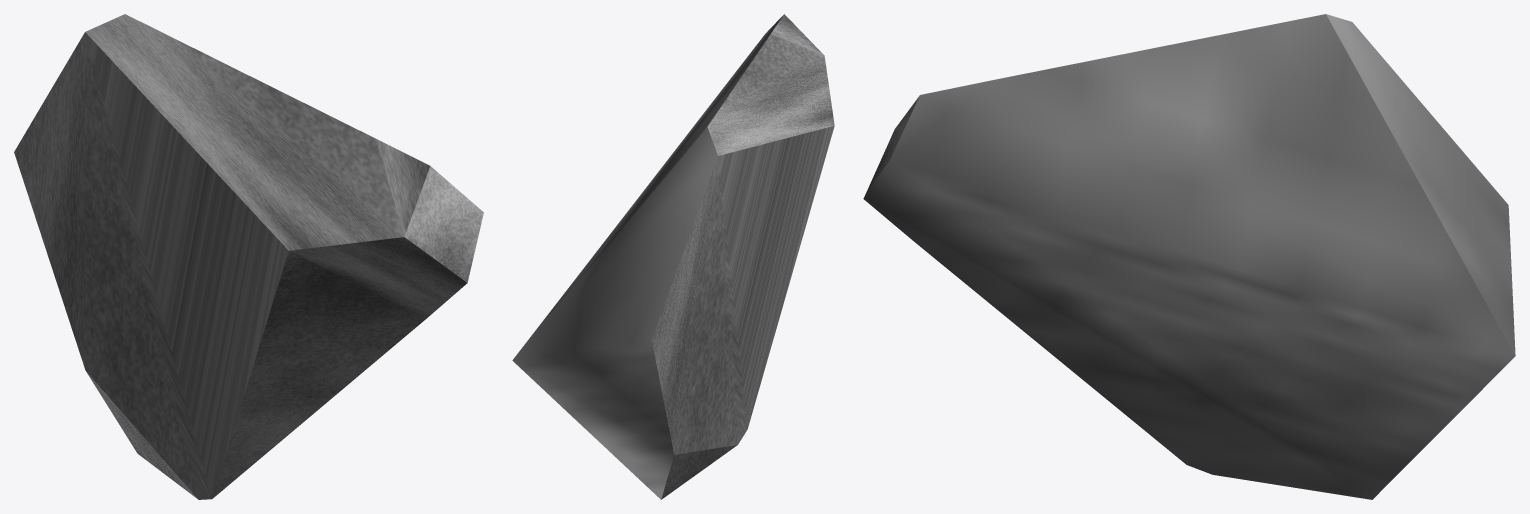
The model's file is leg_1_cell_001.fbx.
The picture shows the model from 3 angles, left to right: view 1: azimuth 30°, elevation 25°; view 2: azimuth 150°, elevation 25°; view 3: azimuth 270°, elevation 25°; orthographic projection. The views are drawn at different scales.
Visible parts, largest first — view 1: leg_1_cell.001; view 2: leg_1_cell.001; view 3: leg_1_cell.001.
Boxes of the visible parts, box(x1,y1,x2,y2) form: leg_1_cell.001: box(14, 14, 483, 499); leg_1_cell.001: box(512, 14, 834, 499); leg_1_cell.001: box(863, 14, 1515, 499).
Size of the model in its own units: 6.79 by 16.77 by 21.15.
